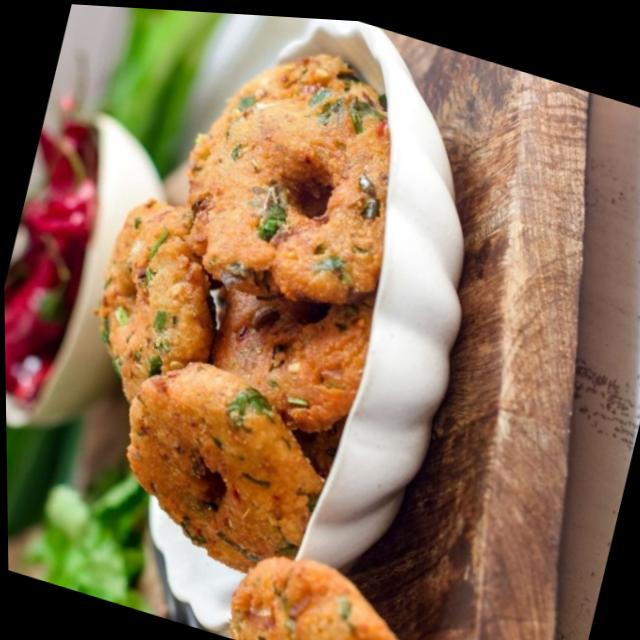VADA: (97, 54, 388, 571)
